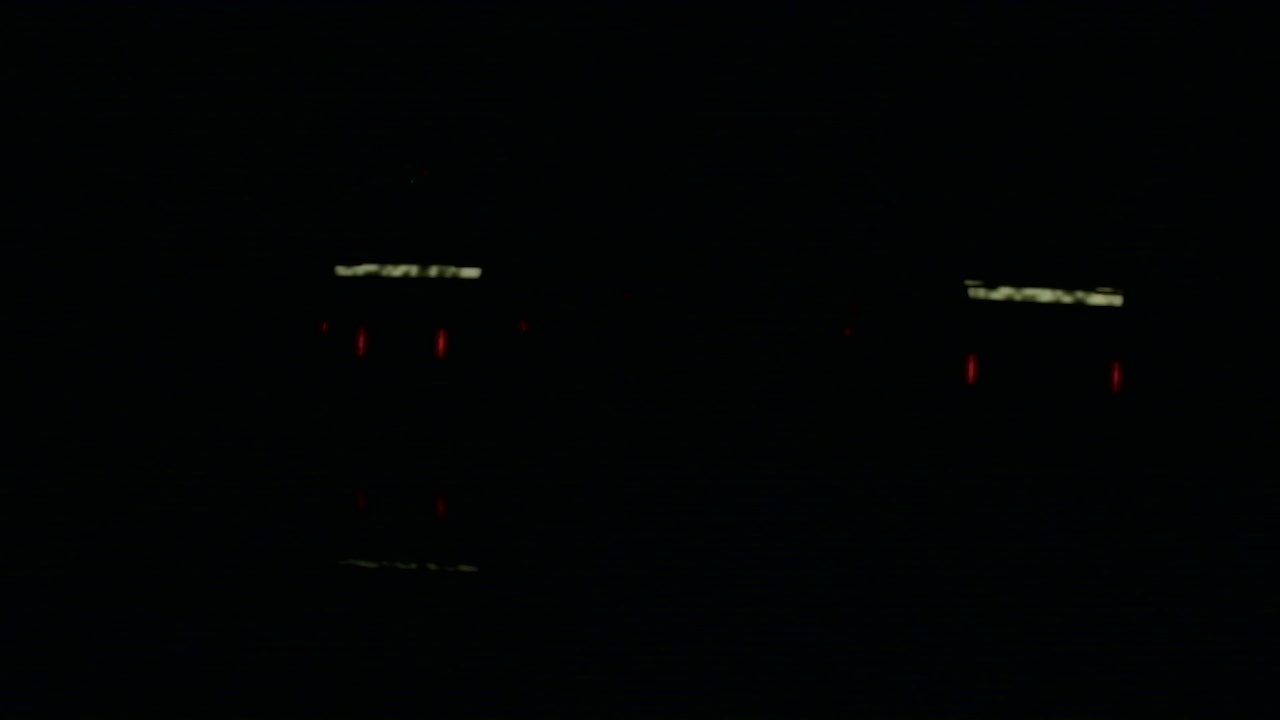lamp: (963, 350, 977, 389), (1112, 365, 1120, 387), (358, 330, 365, 355), (438, 330, 445, 355)
pair1: (358, 331, 444, 356)
pair2: (963, 352, 1119, 390)
